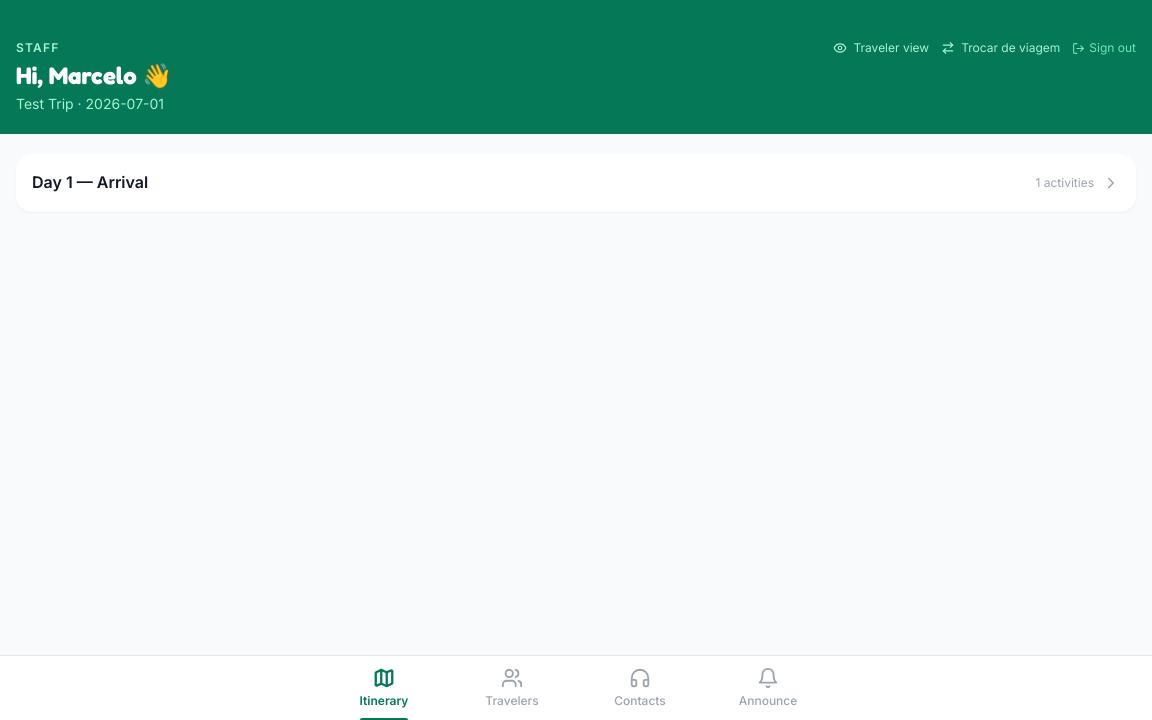
StaffScreen › opens a dedicated page for the activity with its tasks and travelers
Click the text "Day 1 — Arrival" at (90, 182), box [32,170,148,194]
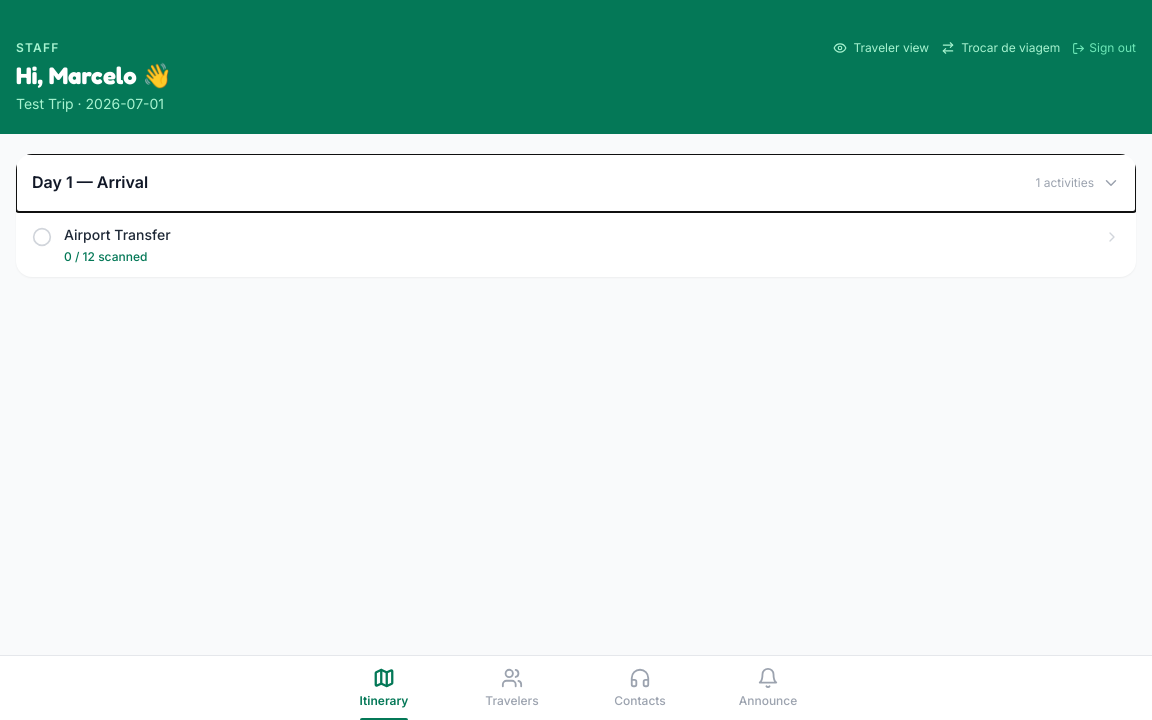
Expected: the text "0 / 12 scanned" is shown, [64,249,147,264]
Click the text "Airport Transfer" at (117, 234), box [64,226,171,243]
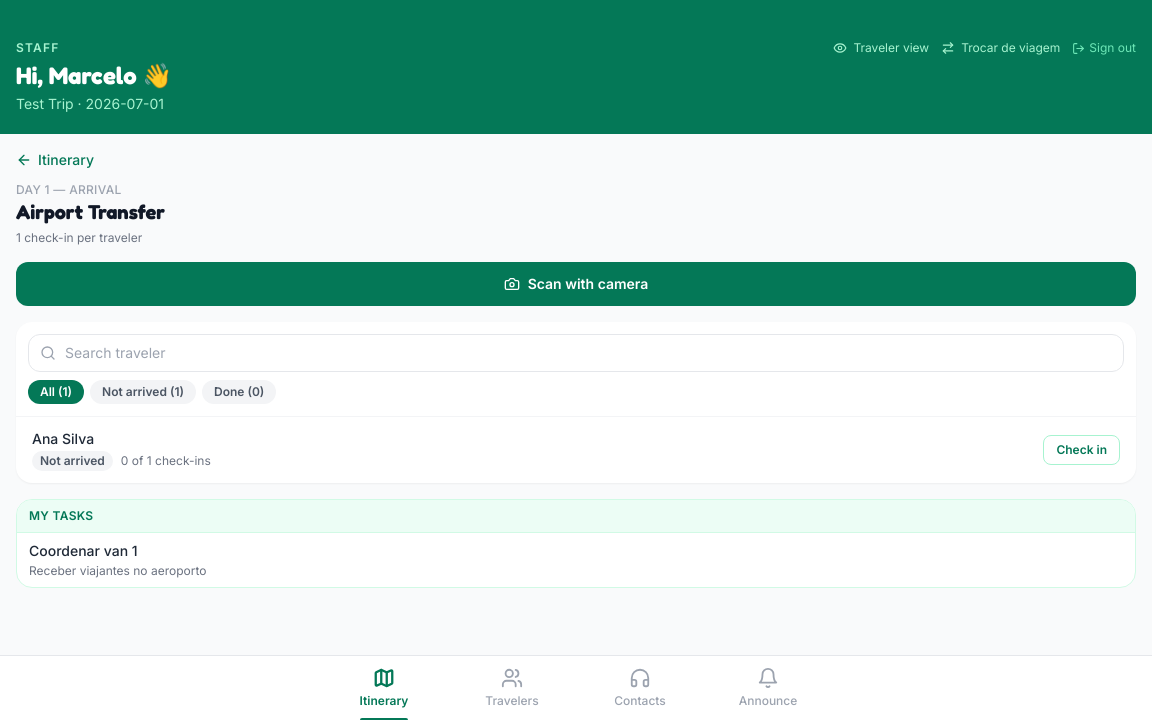
Expected: the heading "Airport Transfer" is shown, [16,200,165,224]
Expected: the text "My tasks" is shown, [29,508,94,523]
Expected: the text "Coordenar van 1" is shown, [29,542,138,559]
Click the button with aria-label "back to itinerary" at (55, 160), box [16,150,94,170]
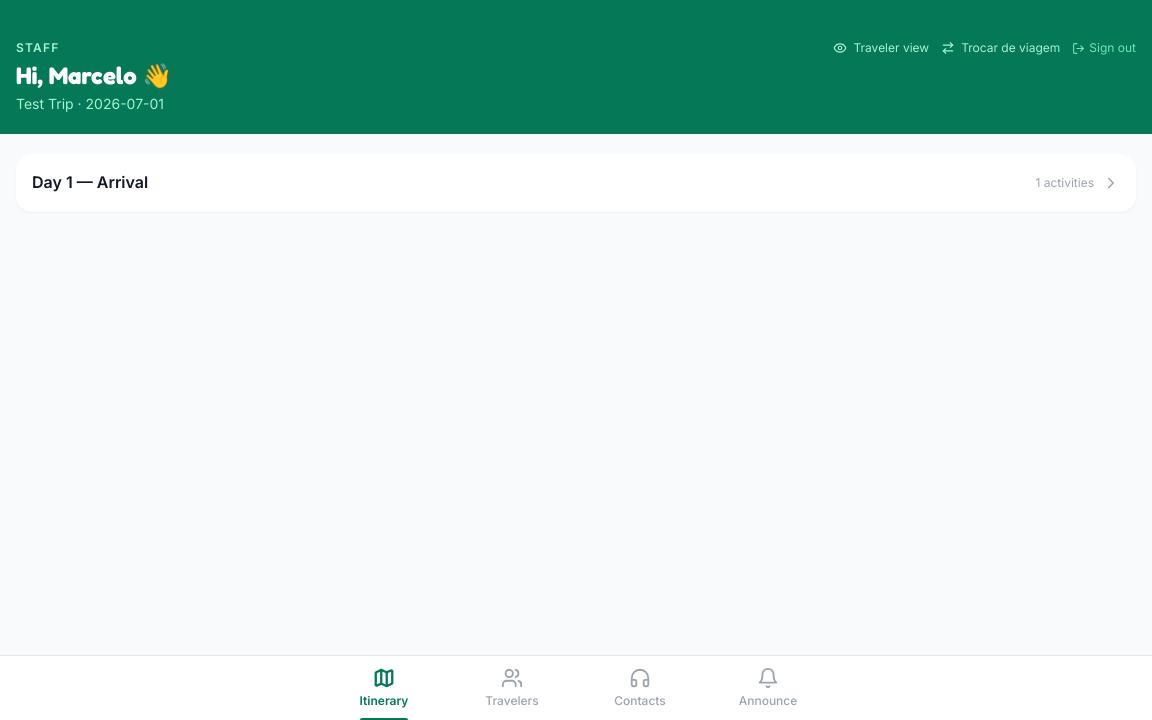
Expected: the heading "Airport Transfer" is gone
